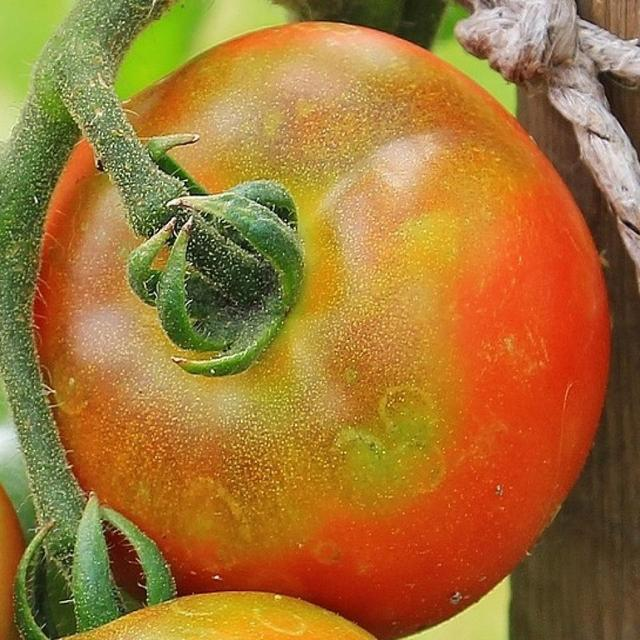Spotted wilt Virus Fruit: (121, 219, 418, 635)
